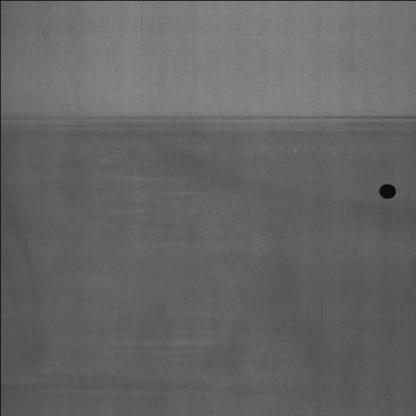punching_hole: (374, 177, 398, 204)
welding_line: (1, 96, 415, 138)
